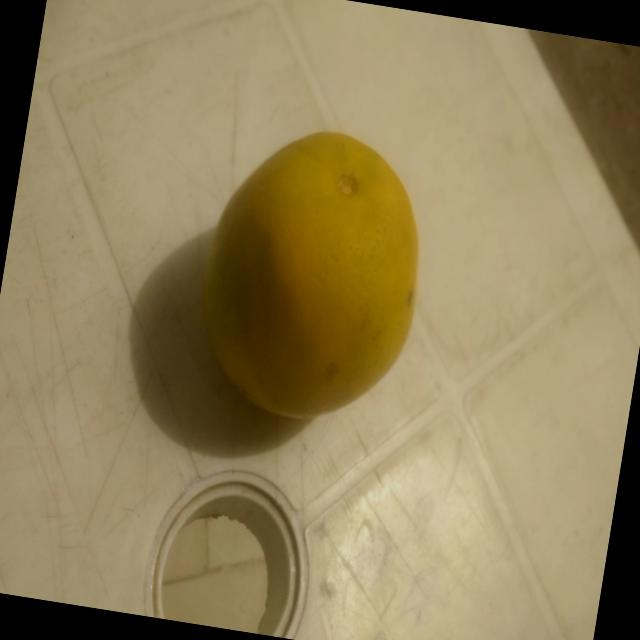agrume: (190, 113, 443, 439)
